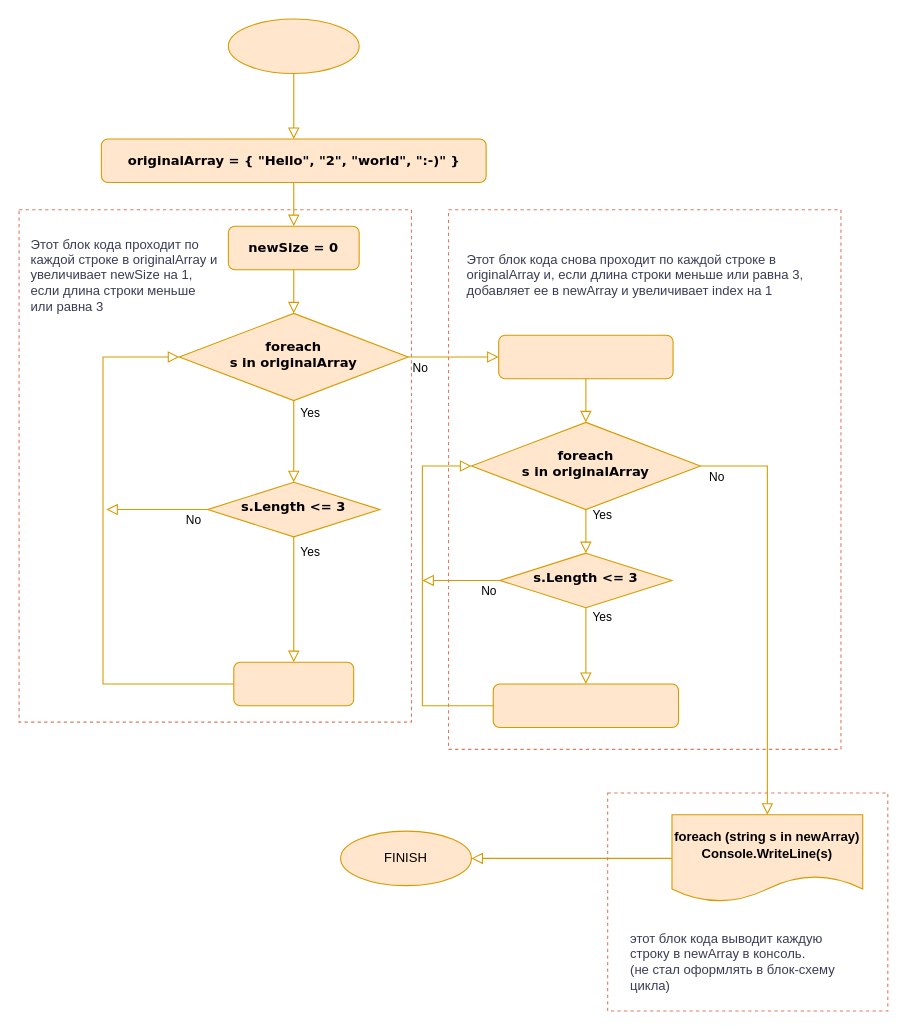
The diagram is 907 pixels wide and 1030 high, and some of its shapes have lost their labels. The shapes that lost their labels are listed below. From the top down, each one's centre as x and y in pixels, then its label:
At pixel 293 46: "START".
At pixel 585 356: "newArray = [newSize] index = 0".
At pixel 293 683: "newSize++".
At pixel 585 705: "newArray[index] = s index++".
